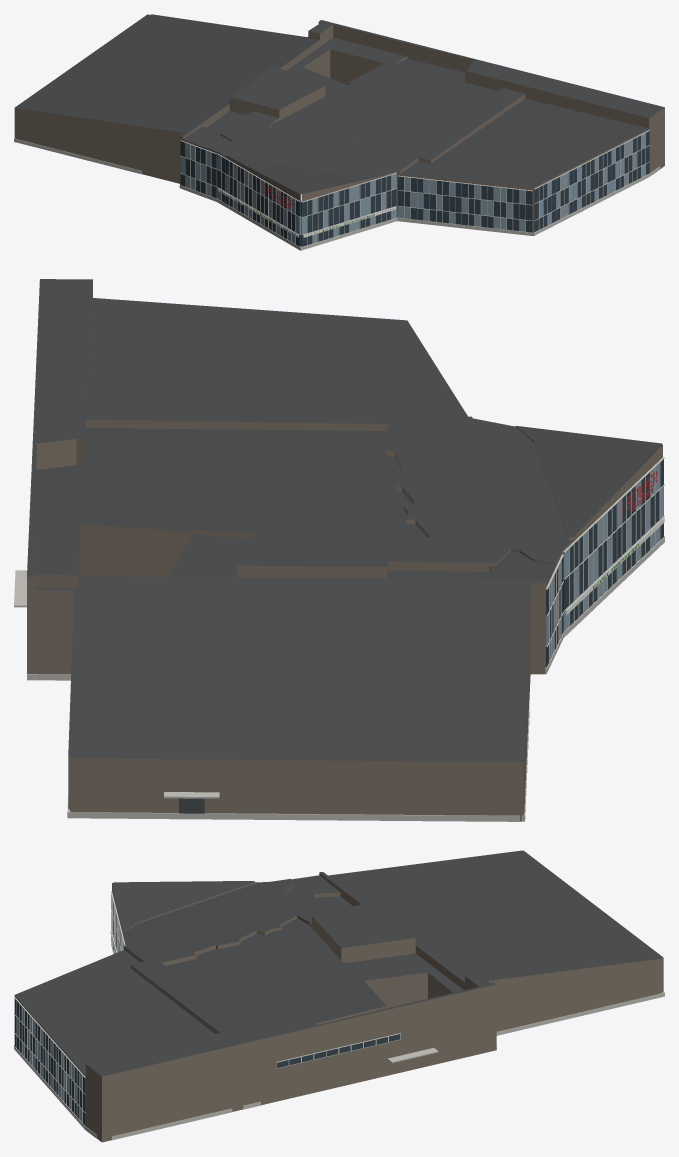
File: zwembad-bijlmer.glb
The picture shows the model from 3 angles, top to bottom: view 1: azimuth 30°, elevation 25°; view 2: azimuth 150°, elevation 25°; view 3: azimuth 270°, elevation 25°; orthographic projection. The views are drawn at different scales.
Visible parts, largest first — view 1: zwembad-bijlmer; view 2: zwembad-bijlmer; view 3: zwembad-bijlmer.
Part boxes in pixels (left/top/right/bottom): zwembad-bijlmer: left=14, top=14, right=664, bottom=250; zwembad-bijlmer: left=14, top=279, right=664, bottom=821; zwembad-bijlmer: left=14, top=850, right=664, bottom=1142.
Bounding box in the file's own units: 102 × 12.36 × 110.
